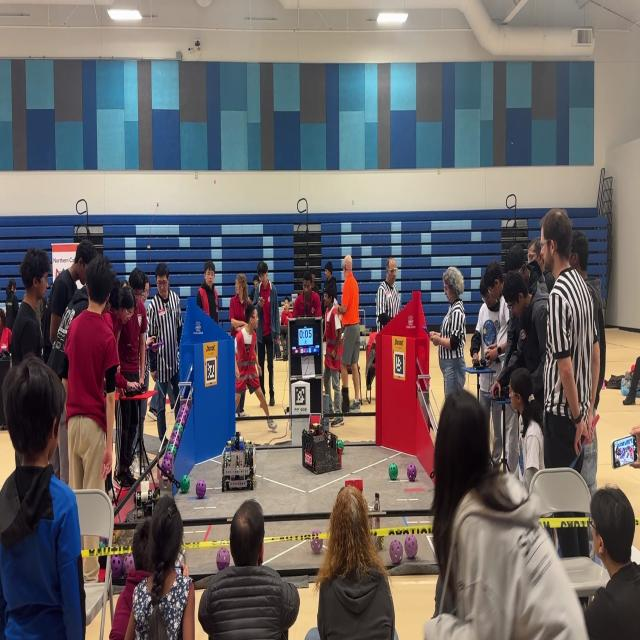artifact_green: (311, 538, 323, 554), (180, 475, 190, 493), (389, 463, 398, 480), (169, 431, 179, 446), (166, 444, 176, 456), (173, 439, 179, 456), (178, 425, 183, 437), (337, 440, 343, 450), (99, 540, 106, 548), (173, 422, 180, 430), (99, 537, 107, 543), (167, 443, 175, 449), (227, 441, 232, 447), (246, 441, 251, 446)
artifact_purple: (389, 539, 403, 564), (111, 555, 123, 579), (405, 535, 417, 559), (217, 548, 230, 570), (161, 453, 173, 475), (124, 554, 135, 574), (178, 405, 189, 423), (310, 539, 323, 554), (170, 431, 180, 450), (196, 480, 206, 498), (407, 464, 416, 482), (176, 407, 184, 425), (178, 415, 187, 429), (174, 431, 181, 448), (178, 405, 187, 417), (169, 431, 178, 443), (184, 411, 189, 426), (99, 537, 107, 545), (185, 405, 190, 417)
